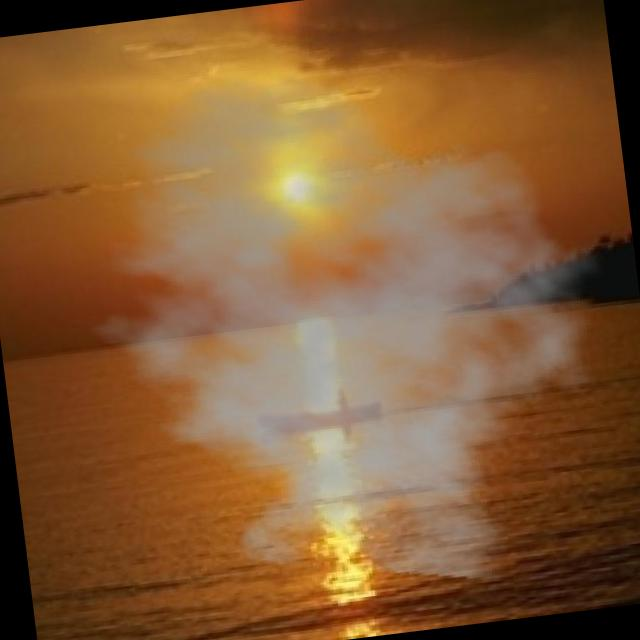Smoke: (40, 33, 640, 629)
